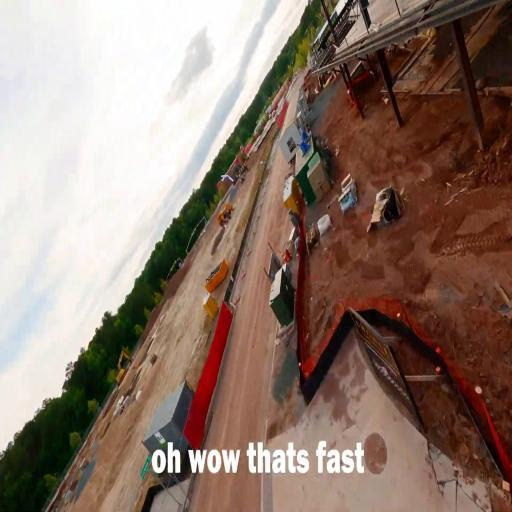uav: (220, 172, 234, 184)
